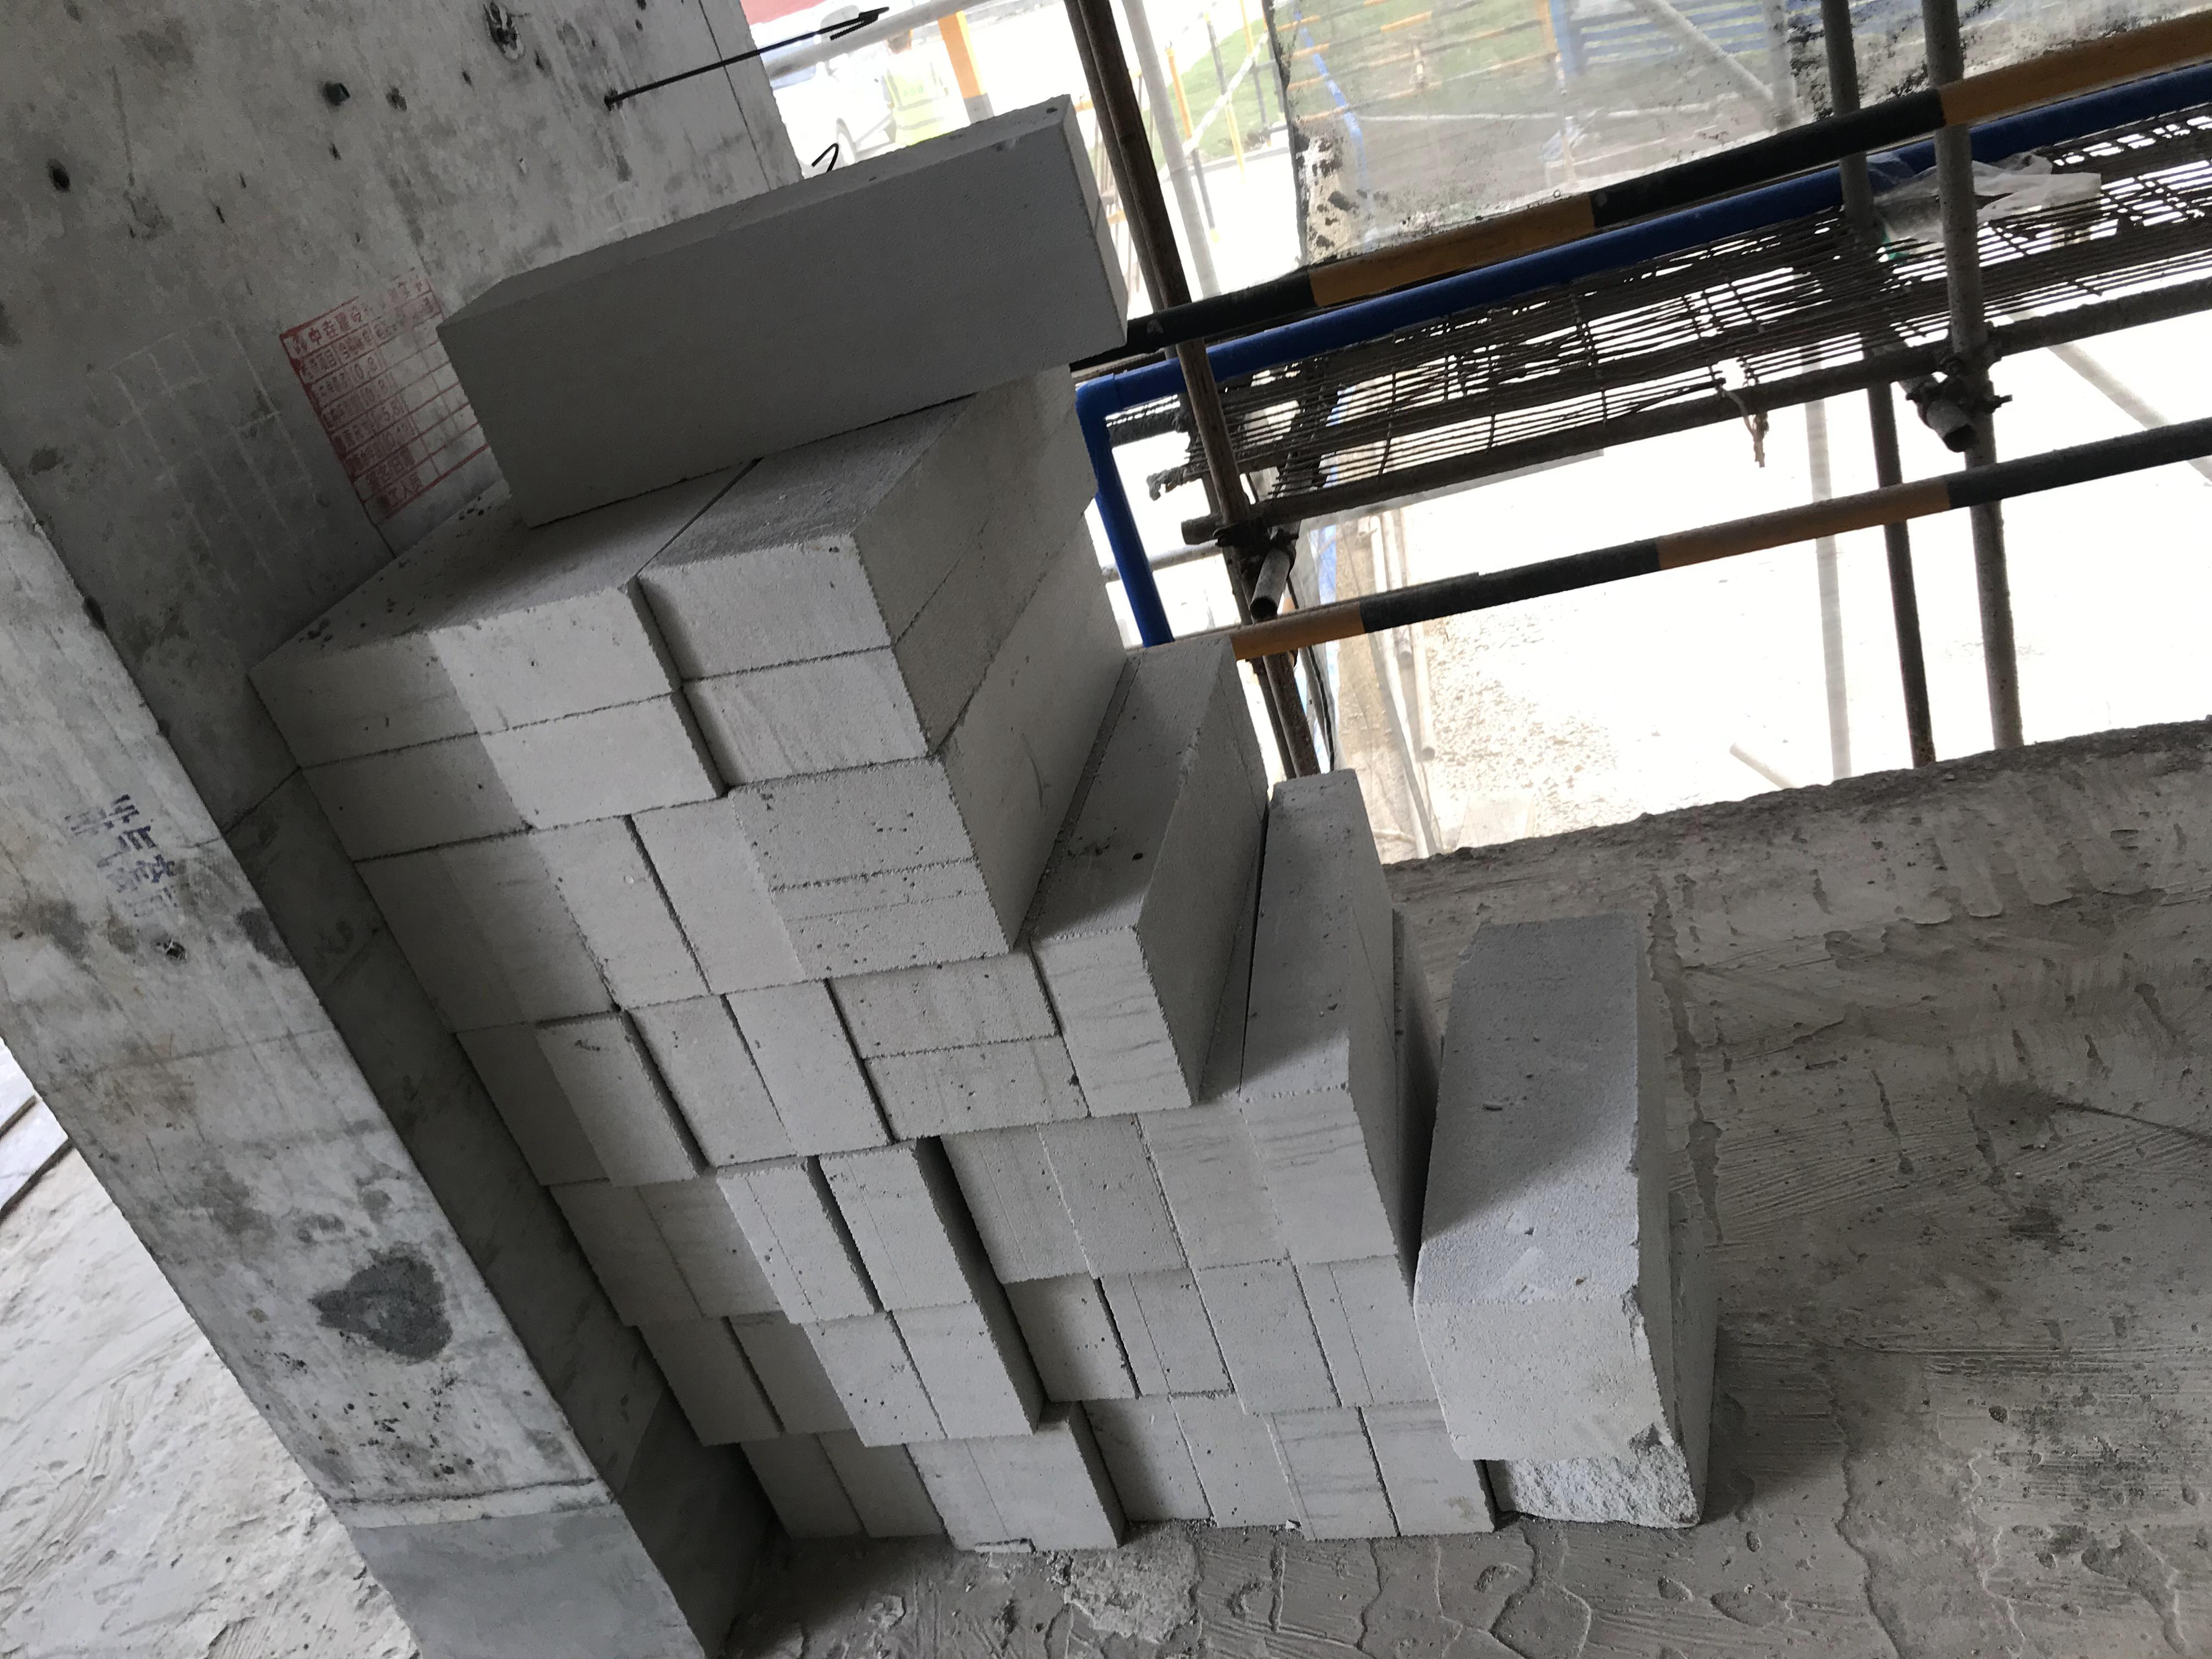brick: (258, 87, 1723, 1530)
